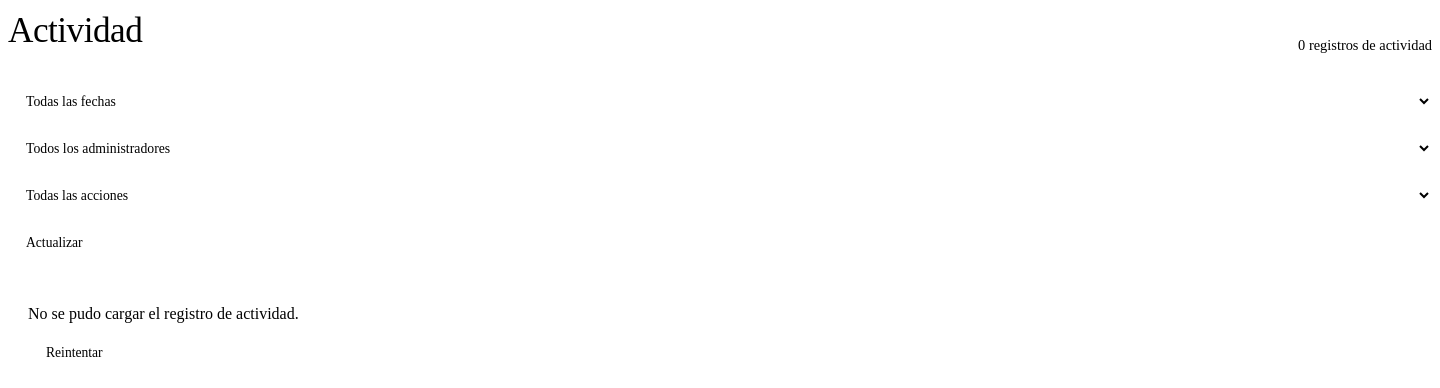
it: ActividadTab — filtros y formas de los datos › una respuesta sin lista es un error, y «Reintentar» vuelve a pedirla
Expected: the message shows "No se pudo cargar el registro de actividad.", top-left (28, 305), bottom-right (299, 322)
Click the button "Reintentar".
click(74, 353)  # box top-left (28, 335), bottom-right (121, 371)
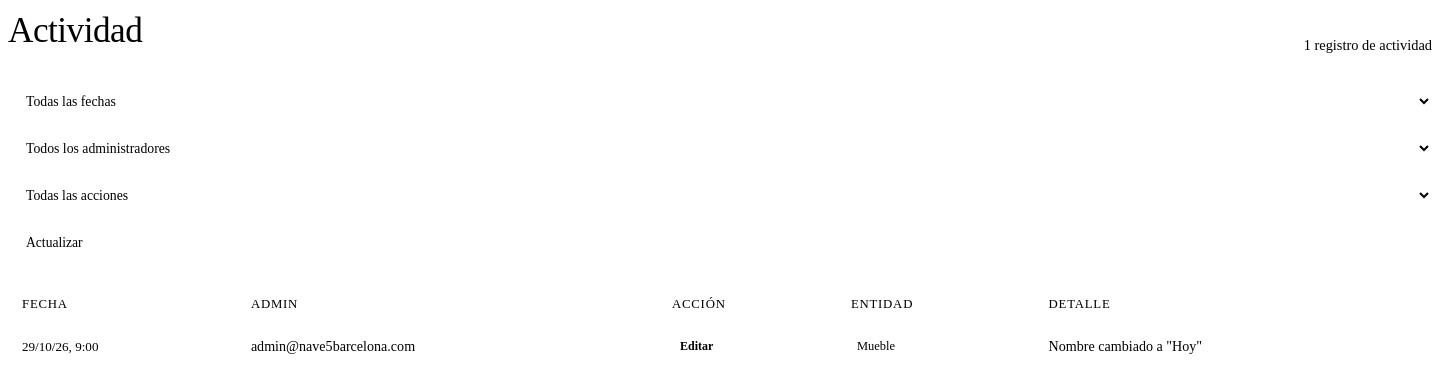
Expected: the text "1 registro de actividad" is shown, top-left (1304, 37), bottom-right (1432, 54)
